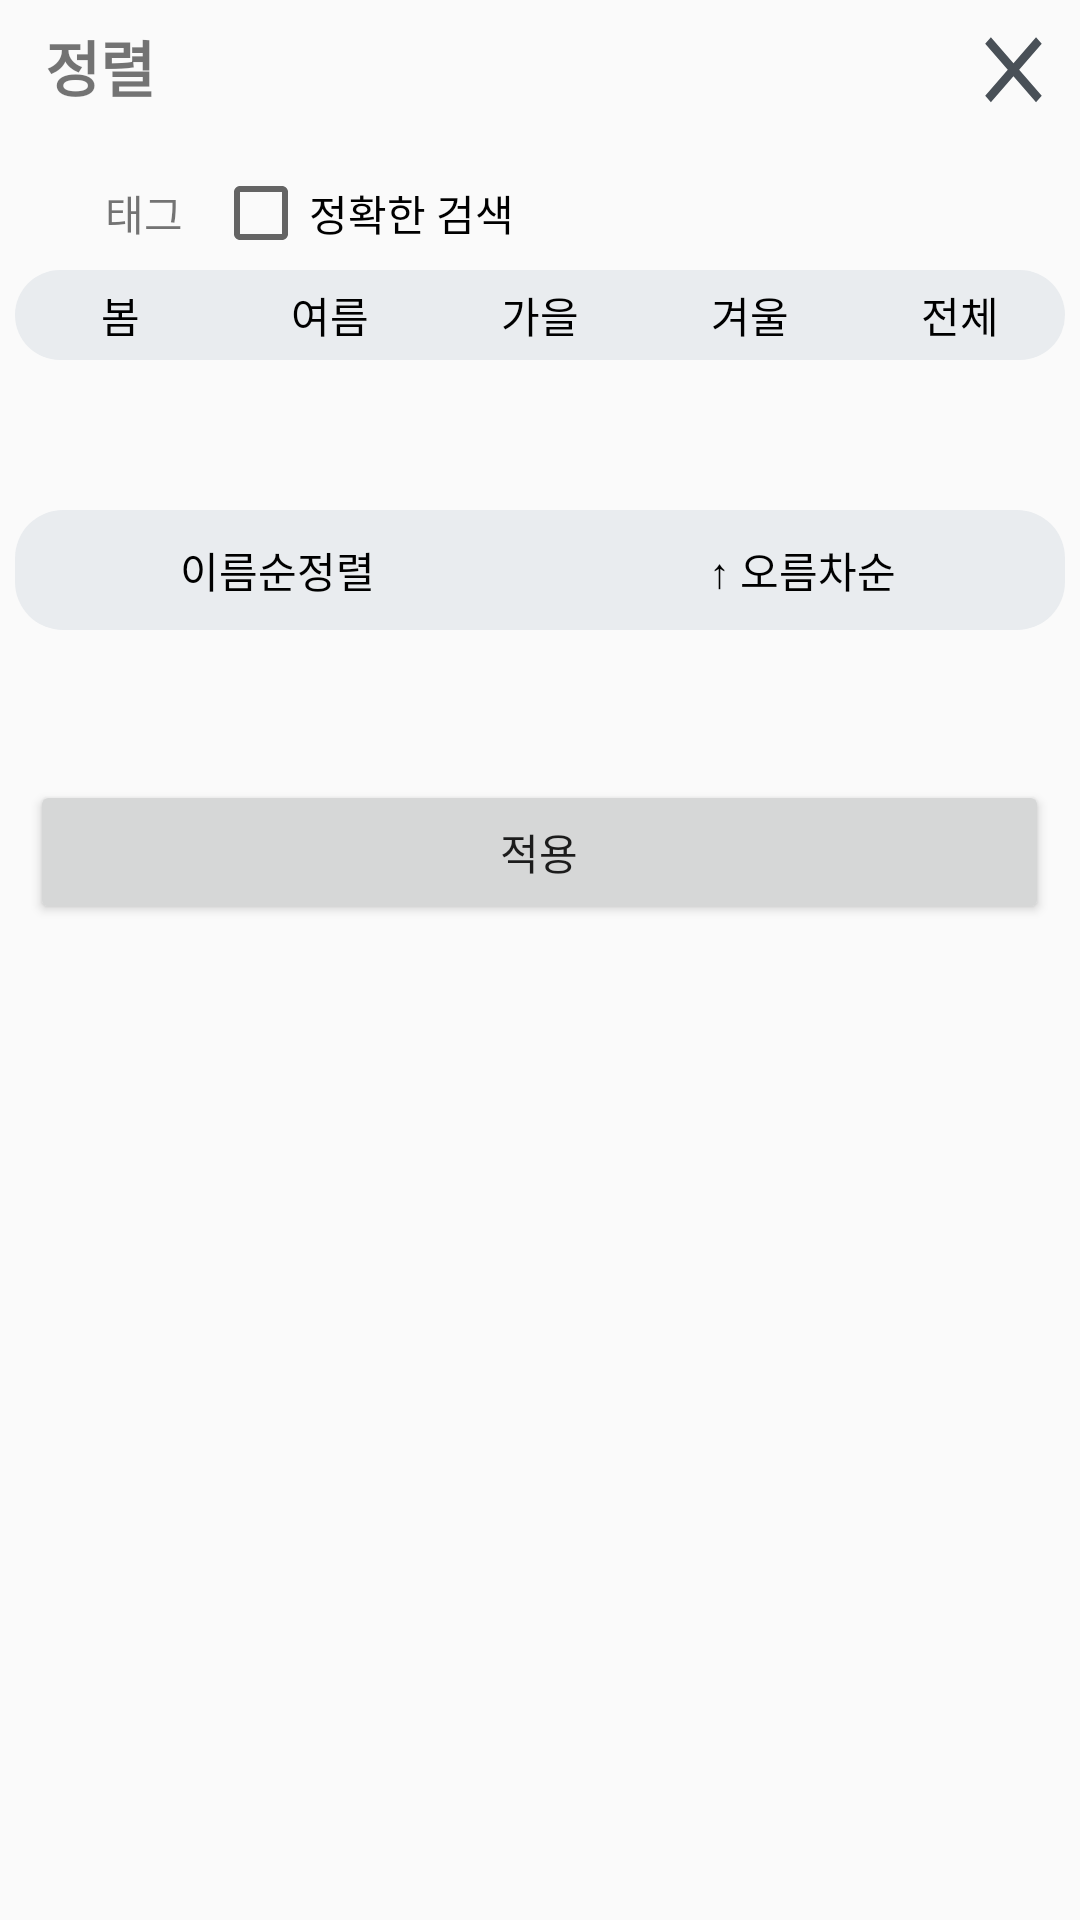

Named icons in this screenshot (1080w x 1920h) and their centers, point (x, y):
xmark: point (1013, 69)
